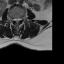CCS_normal: (16, 15, 18, 24)
LFS_normal: (20, 15, 22, 22)
LLS_normal: (18, 15, 20, 23)
RFS_normal: (12, 16, 14, 22)
RLS_normal: (14, 16, 16, 23)
